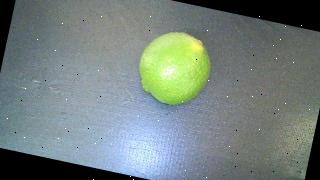EXPORTACION: (133, 26, 217, 112)
